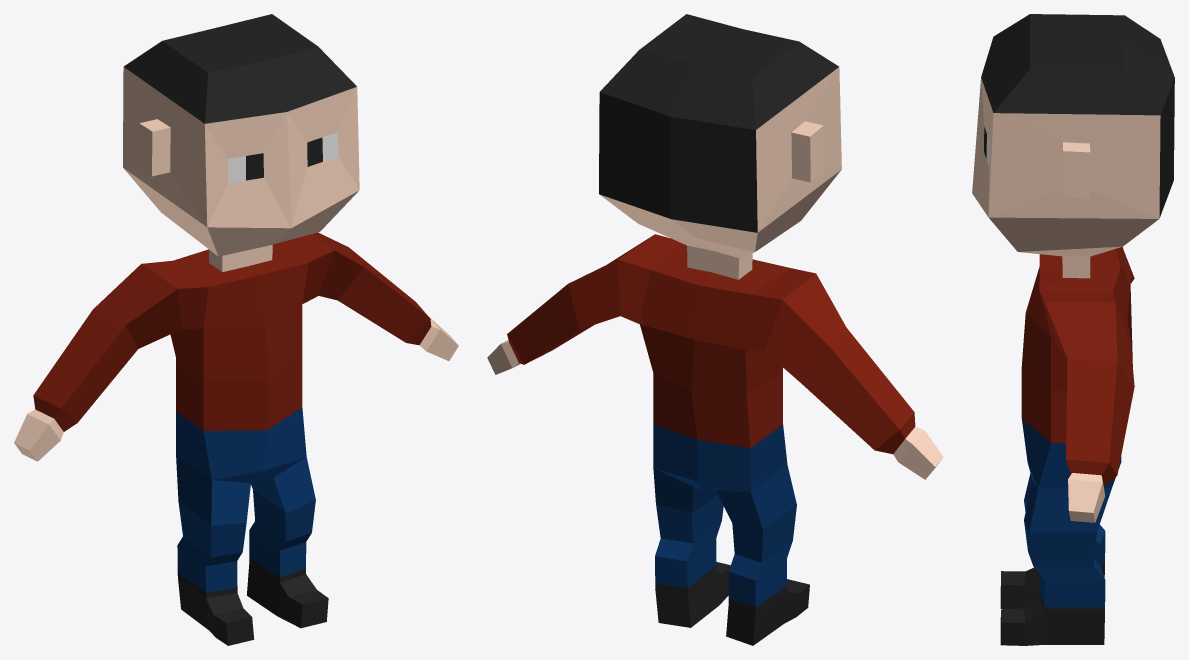
The model's file is player.fbx.
3 views of the same model, side by side, from view 1: azimuth 30°, elevation 25°; view 2: azimuth 150°, elevation 25°; view 3: azimuth 270°, elevation 25° (orthographic). The views are drawn at different scales.
Visible parts, largest first — view 1: Cube; view 2: Cube; view 3: Cube.
Boxes of the visible parts, left/top/right/bottom form: Cube: left=14, top=14, right=458, bottom=645; Cube: left=487, top=14, right=943, bottom=645; Cube: left=972, top=14, right=1174, bottom=645.
Bounding box in the file's own units: 121 × 150 × 47.52.
1 material, 1 textured.
